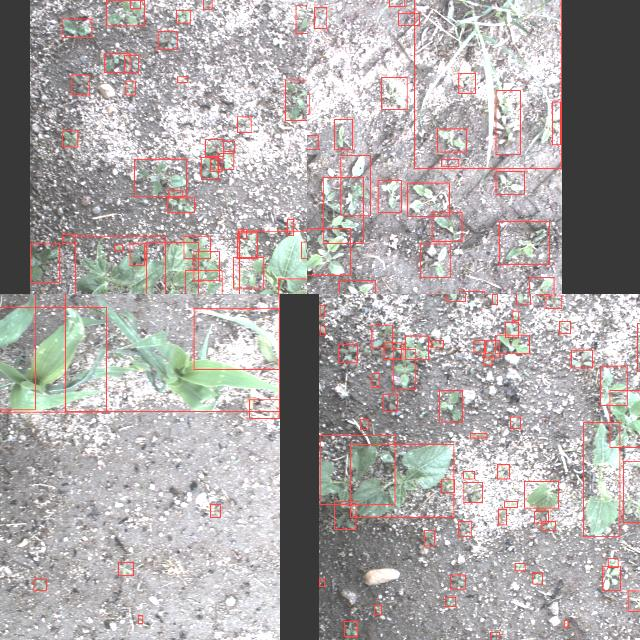crop: (65, 294, 279, 412), (0, 307, 107, 412), (350, 444, 454, 518), (74, 236, 165, 294), (194, 308, 280, 369), (320, 435, 394, 505), (239, 231, 307, 294), (584, 422, 620, 536), (0, 294, 35, 410), (145, 242, 198, 294), (610, 390, 640, 447), (600, 366, 628, 406), (624, 461, 640, 523), (524, 482, 560, 508), (184, 270, 221, 294), (278, 279, 307, 294)
weed: (414, 0, 561, 168), (323, 177, 363, 243), (499, 222, 549, 264), (307, 228, 350, 275), (134, 159, 186, 197), (340, 156, 370, 216), (496, 90, 520, 154), (407, 182, 449, 215), (29, 244, 59, 282), (420, 244, 450, 278), (106, 0, 144, 26), (392, 348, 416, 389), (234, 258, 264, 288), (432, 212, 462, 242), (285, 80, 307, 120), (382, 77, 406, 109), (378, 180, 402, 212), (438, 390, 462, 422), (194, 252, 220, 280), (438, 128, 467, 152), (495, 334, 529, 354), (496, 172, 524, 194), (334, 501, 356, 529), (333, 118, 352, 150), (61, 18, 91, 38), (405, 336, 429, 360), (184, 236, 210, 258), (250, 399, 280, 418), (237, 232, 257, 258), (338, 280, 375, 294), (372, 324, 392, 348), (104, 54, 130, 72), (603, 566, 621, 590), (529, 277, 554, 294), (552, 102, 562, 144), (201, 157, 219, 179), (571, 350, 593, 368), (463, 483, 482, 503), (168, 198, 195, 212), (458, 73, 476, 93), (338, 344, 358, 362), (158, 31, 176, 49), (72, 75, 88, 95), (296, 6, 307, 34), (130, 244, 144, 266), (398, 12, 419, 26), (205, 140, 223, 156), (383, 343, 401, 359), (382, 394, 398, 411), (62, 131, 78, 147), (218, 153, 234, 169), (124, 55, 138, 73), (485, 340, 499, 358), (314, 8, 326, 28), (628, 591, 640, 611), (237, 116, 251, 132), (118, 562, 134, 576), (450, 575, 466, 589), (496, 464, 509, 480), (177, 10, 191, 24), (506, 322, 518, 338), (546, 296, 562, 308), (344, 622, 356, 636), (458, 522, 470, 536), (534, 511, 548, 523), (424, 530, 434, 546), (307, 135, 318, 149), (515, 294, 530, 304), (210, 159, 222, 171), (442, 480, 454, 492), (210, 504, 220, 518), (446, 294, 466, 301), (125, 82, 135, 95), (62, 234, 76, 243), (498, 510, 507, 524), (34, 580, 46, 590), (532, 572, 542, 584), (560, 322, 570, 334), (474, 340, 484, 352), (510, 417, 520, 429), (168, 190, 182, 198), (442, 160, 458, 167), (542, 522, 556, 530), (371, 373, 379, 387), (223, 141, 234, 151), (445, 597, 455, 607), (608, 558, 618, 568), (301, 242, 307, 258), (288, 219, 294, 235), (389, 0, 405, 6), (431, 340, 443, 348), (471, 432, 487, 438), (484, 353, 492, 365), (504, 502, 518, 508), (202, 0, 211, 9), (130, 0, 140, 8), (360, 419, 368, 429), (464, 471, 474, 479), (490, 632, 500, 640), (515, 563, 525, 571), (374, 605, 381, 615), (238, 230, 246, 238), (177, 77, 187, 83), (492, 295, 498, 305), (513, 311, 519, 321), (114, 245, 122, 251), (318, 578, 324, 586), (320, 306, 324, 316), (138, 615, 142, 623), (564, 620, 568, 628), (320, 326, 324, 334)
